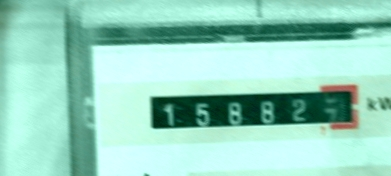1: (164, 97, 178, 127)
2: (291, 95, 308, 122)
5: (195, 99, 213, 129)
7: (324, 104, 337, 121)
8: (227, 98, 244, 126), (260, 96, 276, 125)
screen: (139, 74, 367, 140)
